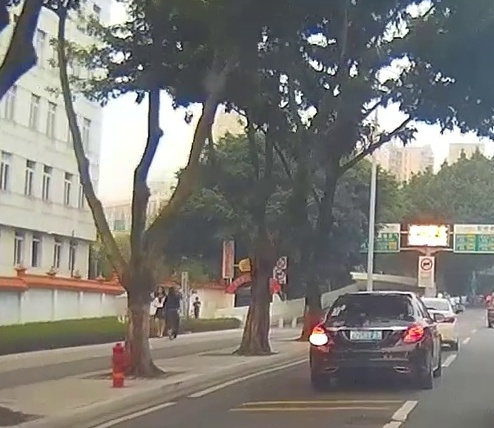L_light: (309, 327, 329, 345)
R_light: (402, 324, 424, 342)
T_light: (363, 294, 382, 298)
day-left: (308, 290, 430, 389)
